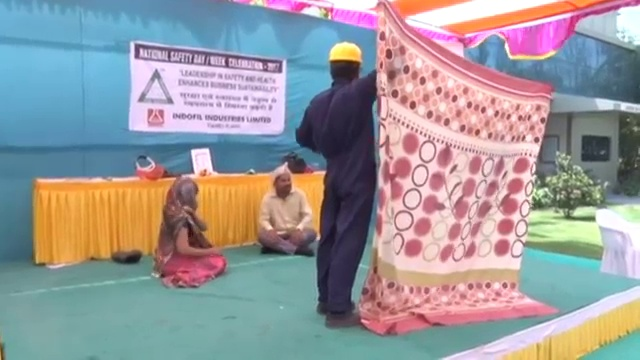helmet: (328, 38, 366, 66)
helmet_off: (168, 174, 200, 206), (269, 165, 294, 196)
helmet_on: (325, 38, 363, 83)
person: (298, 38, 377, 324), (153, 174, 226, 289), (253, 164, 314, 257)
